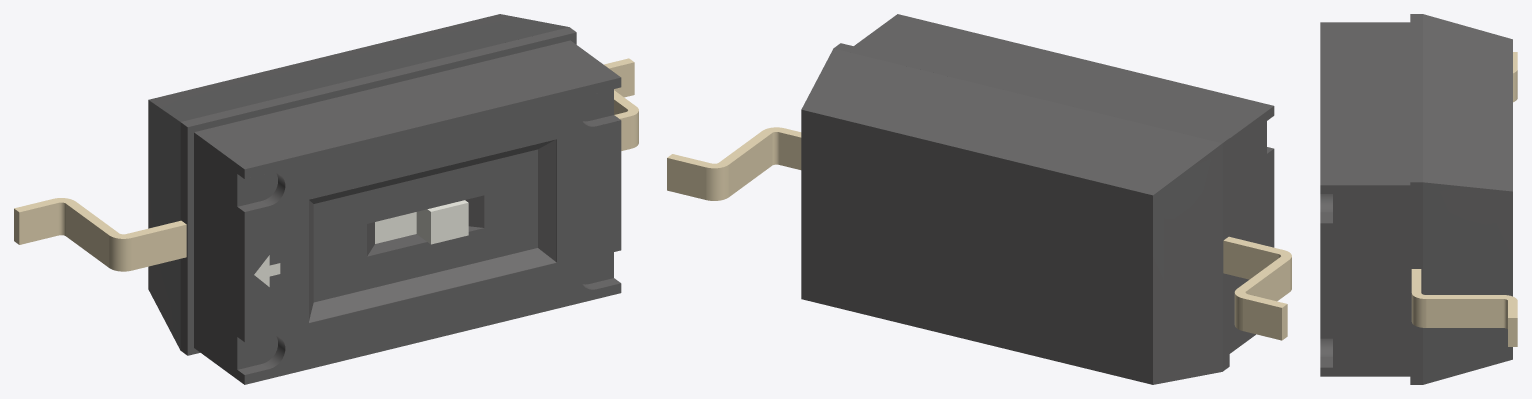
Rendered from SW_DIP_SPSTx01_Slide_Omron_A6S-110x_W8.9mm_P2.54mm.glb.
3 renders of one model, left to right at view 1: azimuth 30°, elevation 25°; view 2: azimuth 150°, elevation 25°; view 3: azimuth 270°, elevation 25°, orthographic. The views are drawn at different scales.
Visible parts, largest first — view 1: Shape_IndexedFaceSet.033, Shape_IndexedFaceSet.031, Shape_IndexedFaceSet.069, Shape_IndexedFaceSet.002, Shape_IndexedFaceSet.040, Shape_IndexedFaceSet.005, Shape_IndexedFaceSet.068, Shape_IndexedFaceSet.006, Shape_IndexedFaceSet.014, Shape_IndexedFaceSet.066, Shape_IndexedFaceSet.028, Shape_IndexedFaceSet.013 (+16 smaller); view 2: Shape_IndexedFaceSet.001, Shape_IndexedFaceSet.002, Shape_IndexedFaceSet.031, Shape_IndexedFaceSet.005, Shape_IndexedFaceSet.040, Shape_IndexedFaceSet.006, Shape_IndexedFaceSet.013, Shape_IndexedFaceSet.019, Shape_IndexedFaceSet.030, Shape_IndexedFaceSet.022, Shape_IndexedFaceSet.046, Shape_IndexedFaceSet.029 (+4 smaller); view 3: Shape_IndexedFaceSet.016, Shape_IndexedFaceSet.031, Shape_IndexedFaceSet.002, Shape_IndexedFaceSet, Shape_IndexedFaceSet.021, Shape_IndexedFaceSet.006, Shape_IndexedFaceSet.003, Shape_IndexedFaceSet.012, Shape_IndexedFaceSet.017, Shape_IndexedFaceSet.024, Shape_IndexedFaceSet.050, Shape_IndexedFaceSet.054.
Part boxes in pixels (<box>): Shape_IndexedFaceSet.033: <box>244,77,621,384</box>; Shape_IndexedFaceSet.031: <box>194,40,620,169</box>; Shape_IndexedFaceSet.069: <box>313,149,537,302</box>; Shape_IndexedFaceSet.002: <box>148,14,568,121</box>; Shape_IndexedFaceSet.040: <box>194,132,244,384</box>; Shape_IndexedFaceSet.005: <box>148,100,180,350</box>; Shape_IndexedFaceSet.068: <box>309,248,556,322</box>; Shape_IndexedFaceSet.006: <box>181,27,576,126</box>; Shape_IndexedFaceSet.014: <box>188,32,576,131</box>; Shape_IndexedFaceSet.066: <box>538,139,556,261</box>; Shape_IndexedFaceSet.028: <box>131,224,186,270</box>; Shape_IndexedFaceSet.013: <box>180,122,187,355</box>; Shape_IndexedFaceSet.001: <box>801,109,1152,384</box>; Shape_IndexedFaceSet.002: <box>801,48,1221,195</box>; Shape_IndexedFaceSet.031: <box>854,14,1273,137</box>; Shape_IndexedFaceSet.005: <box>1153,143,1222,384</box>; Shape_IndexedFaceSet.040: <box>1229,106,1274,353</box>; Shape_IndexedFaceSet.006: <box>834,43,1229,143</box>; Shape_IndexedFaceSet.013: <box>1222,138,1229,371</box>; Shape_IndexedFaceSet.019: <box>728,133,771,196</box>; Shape_IndexedFaceSet.030: <box>1223,240,1278,279</box>; Shape_IndexedFaceSet.022: <box>667,158,706,199</box>; Shape_IndexedFaceSet.046: <box>1243,298,1281,340</box>; Shape_IndexedFaceSet.029: <box>1224,236,1291,307</box>; Shape_IndexedFaceSet.016: <box>1320,185,1410,376</box>; Shape_IndexedFaceSet.031: <box>1320,22,1410,185</box>; Shape_IndexedFaceSet.002: <box>1423,14,1512,191</box>; Shape_IndexedFaceSet: <box>1423,182,1512,384</box>; Shape_IndexedFaceSet.021: <box>1426,299,1503,327</box>; Shape_IndexedFaceSet.006: <box>1410,14,1422,182</box>; Shape_IndexedFaceSet.003: <box>1410,182,1422,384</box>; Shape_IndexedFaceSet.012: <box>1411,269,1517,317</box>; Shape_IndexedFaceSet.017: <box>1411,293,1426,327</box>; Shape_IndexedFaceSet.024: <box>1508,318,1517,346</box>; Shape_IndexedFaceSet.050: <box>1320,338,1332,356</box>; Shape_IndexedFaceSet.054: <box>1320,194,1332,212</box>.
Bounding box in the file's own units: 3.86 × 1.37 × 1.21.
